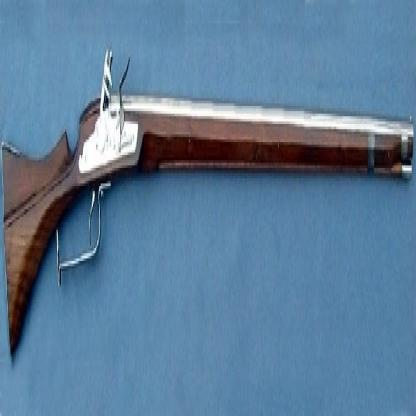gun: (0, 7, 415, 416)
